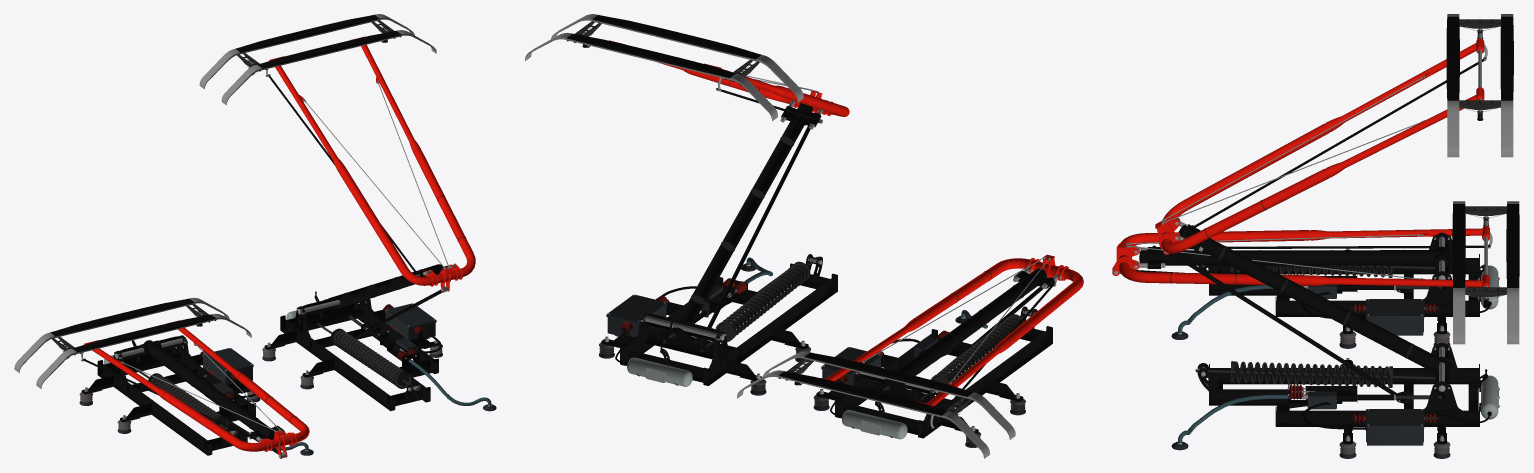
File: EXT_3d66_JJI54552119072_v01.fbx
3 views of the same model, side by side, from view 1: azimuth 30°, elevation 25°; view 2: azimuth 150°, elevation 25°; view 3: azimuth 270°, elevation 25° (orthographic). The views are drawn at different scales.
Visible parts, largest first — view 1: bed284fe-25b0-4997-90b6-45b154761f72, 794d8a58-be87-4364-8fe0-3067d2a0ac36, bd14ef20-a603-4848-bcd5-a4135e22a002, 45556704-17f7-4761-9700-dc483e156b39, 12bdc8fc-eb73-4711-a37f-344247b3d5c4, 3218392c-20ba-40dc-ad8c-75b276d790e1, 3dcc9df7-ce9b-48e4-9aea-a883946246cc, 92b8e5b0-93db-4ed4-81e5-a77d47f5ac72, 3a64d8a5-b076-4362-b6ec-c11b067b8462, a6308ee5-ed34-4137-9996-7ef7b4dc0e68, 9ff39cfa-de9b-4fee-abab-23ff9dafb5e3, ef63f6ba-c46b-49d4-b55d-84080f56ab9e (+4 smaller); view 2: bed284fe-25b0-4997-90b6-45b154761f72, 794d8a58-be87-4364-8fe0-3067d2a0ac36, 45556704-17f7-4761-9700-dc483e156b39, 07dd2afa-caa6-461c-b495-faefde7239dc, 12bdc8fc-eb73-4711-a37f-344247b3d5c4, 3dcc9df7-ce9b-48e4-9aea-a883946246cc, 3218392c-20ba-40dc-ad8c-75b276d790e1, 92b8e5b0-93db-4ed4-81e5-a77d47f5ac72, 3a64d8a5-b076-4362-b6ec-c11b067b8462, ef63f6ba-c46b-49d4-b55d-84080f56ab9e, a6308ee5-ed34-4137-9996-7ef7b4dc0e68, bd14ef20-a603-4848-bcd5-a4135e22a002 (+8 smaller); view 3: bed284fe-25b0-4997-90b6-45b154761f72, bd14ef20-a603-4848-bcd5-a4135e22a002, 45556704-17f7-4761-9700-dc483e156b39, 794d8a58-be87-4364-8fe0-3067d2a0ac36, 07dd2afa-caa6-461c-b495-faefde7239dc, 12bdc8fc-eb73-4711-a37f-344247b3d5c4, a6308ee5-ed34-4137-9996-7ef7b4dc0e68, ef63f6ba-c46b-49d4-b55d-84080f56ab9e, 9ff39cfa-de9b-4fee-abab-23ff9dafb5e3, 3dcc9df7-ce9b-48e4-9aea-a883946246cc, 3218392c-20ba-40dc-ad8c-75b276d790e1, 3a64d8a5-b076-4362-b6ec-c11b067b8462 (+16 smaller).
Part boxes in pixels (bbox=[...]): bed284fe-25b0-4997-90b6-45b154761f72: bbox=[264, 292, 439, 411]; 794d8a58-be87-4364-8fe0-3067d2a0ac36: bbox=[81, 335, 255, 455]; bd14ef20-a603-4848-bcd5-a4135e22a002: bbox=[269, 36, 475, 292]; 45556704-17f7-4761-9700-dc483e156b39: bbox=[84, 320, 309, 458]; 12bdc8fc-eb73-4711-a37f-344247b3d5c4: bbox=[140, 340, 284, 440]; 3218392c-20ba-40dc-ad8c-75b276d790e1: bbox=[50, 298, 215, 352]; 3dcc9df7-ce9b-48e4-9aea-a883946246cc: bbox=[235, 14, 401, 68]; 92b8e5b0-93db-4ed4-81e5-a77d47f5ac72: bbox=[14, 297, 251, 388]; 3a64d8a5-b076-4362-b6ec-c11b067b8462: bbox=[199, 14, 436, 105]; a6308ee5-ed34-4137-9996-7ef7b4dc0e68: bbox=[262, 303, 496, 411]; 9ff39cfa-de9b-4fee-abab-23ff9dafb5e3: bbox=[79, 348, 313, 455]; ef63f6ba-c46b-49d4-b55d-84080f56ab9e: bbox=[333, 330, 403, 388]; bed284fe-25b0-4997-90b6-45b154761f72: bbox=[601, 254, 837, 385]; 794d8a58-be87-4364-8fe0-3067d2a0ac36: bbox=[816, 306, 1052, 438]; 45556704-17f7-4761-9700-dc483e156b39: bbox=[821, 254, 1083, 406]; 07dd2afa-caa6-461c-b495-faefde7239dc: bbox=[670, 103, 821, 336]; 12bdc8fc-eb73-4711-a37f-344247b3d5c4: bbox=[884, 268, 1054, 388]; 3dcc9df7-ce9b-48e4-9aea-a883946246cc: bbox=[567, 15, 761, 78]; 3218392c-20ba-40dc-ad8c-75b276d790e1: bbox=[779, 352, 973, 415]; 92b8e5b0-93db-4ed4-81e5-a77d47f5ac72: bbox=[737, 351, 1015, 458]; 3a64d8a5-b076-4362-b6ec-c11b067b8462: bbox=[525, 14, 803, 121]; ef63f6ba-c46b-49d4-b55d-84080f56ab9e: bbox=[717, 264, 808, 337]; a6308ee5-ed34-4137-9996-7ef7b4dc0e68: bbox=[599, 263, 809, 395]; bd14ef20-a603-4848-bcd5-a4135e22a002: bbox=[609, 40, 849, 116]; bed284fe-25b0-4997-90b6-45b154761f72: bbox=[1197, 342, 1487, 444]; bd14ef20-a603-4848-bcd5-a4135e22a002: bbox=[1155, 38, 1484, 254]; 45556704-17f7-4761-9700-dc483e156b39: bbox=[1112, 225, 1489, 287]; 794d8a58-be87-4364-8fe0-3067d2a0ac36: bbox=[1198, 232, 1484, 333]; 07dd2afa-caa6-461c-b495-faefde7239dc: bbox=[1181, 224, 1451, 374]; 12bdc8fc-eb73-4711-a37f-344247b3d5c4: bbox=[1141, 246, 1448, 268]; a6308ee5-ed34-4137-9996-7ef7b4dc0e68: bbox=[1171, 391, 1450, 458]; ef63f6ba-c46b-49d4-b55d-84080f56ab9e: bbox=[1230, 361, 1392, 387]; 9ff39cfa-de9b-4fee-abab-23ff9dafb5e3: bbox=[1171, 284, 1450, 348]; 3dcc9df7-ce9b-48e4-9aea-a883946246cc: bbox=[1446, 16, 1513, 100]; 3218392c-20ba-40dc-ad8c-75b276d790e1: bbox=[1452, 204, 1519, 287]; 3a64d8a5-b076-4362-b6ec-c11b067b8462: bbox=[1447, 14, 1513, 157].
Bounding box in the file's own units: 311 × 221 × 227.
